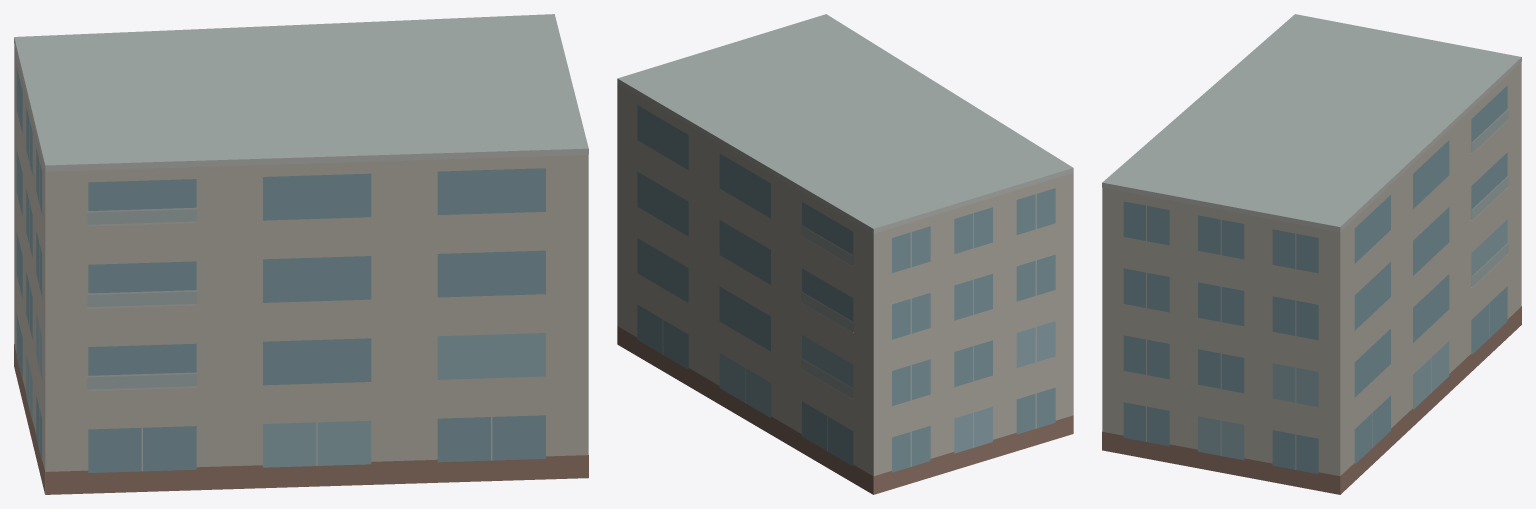
The model's file is survey-upis-32969297.glb.
3 renders of one model, left to right at view 1: azimuth 30°, elevation 25°; view 2: azimuth 150°, elevation 25°; view 3: azimuth 270°, elevation 25°, orthographic. The views are drawn at different scales.
Parts seen in each view (by area): view 1: survey-upis-32969297.tmp; view 2: survey-upis-32969297.tmp; view 3: survey-upis-32969297.tmp.
Part boxes in pixels (<box>): survey-upis-32969297.tmp: <box>14,14,588,494</box>; survey-upis-32969297.tmp: <box>617,14,1073,494</box>; survey-upis-32969297.tmp: <box>1102,14,1521,494</box>.
Bounding box in the file's own units: 22.37 × 13.1 × 18.61.
